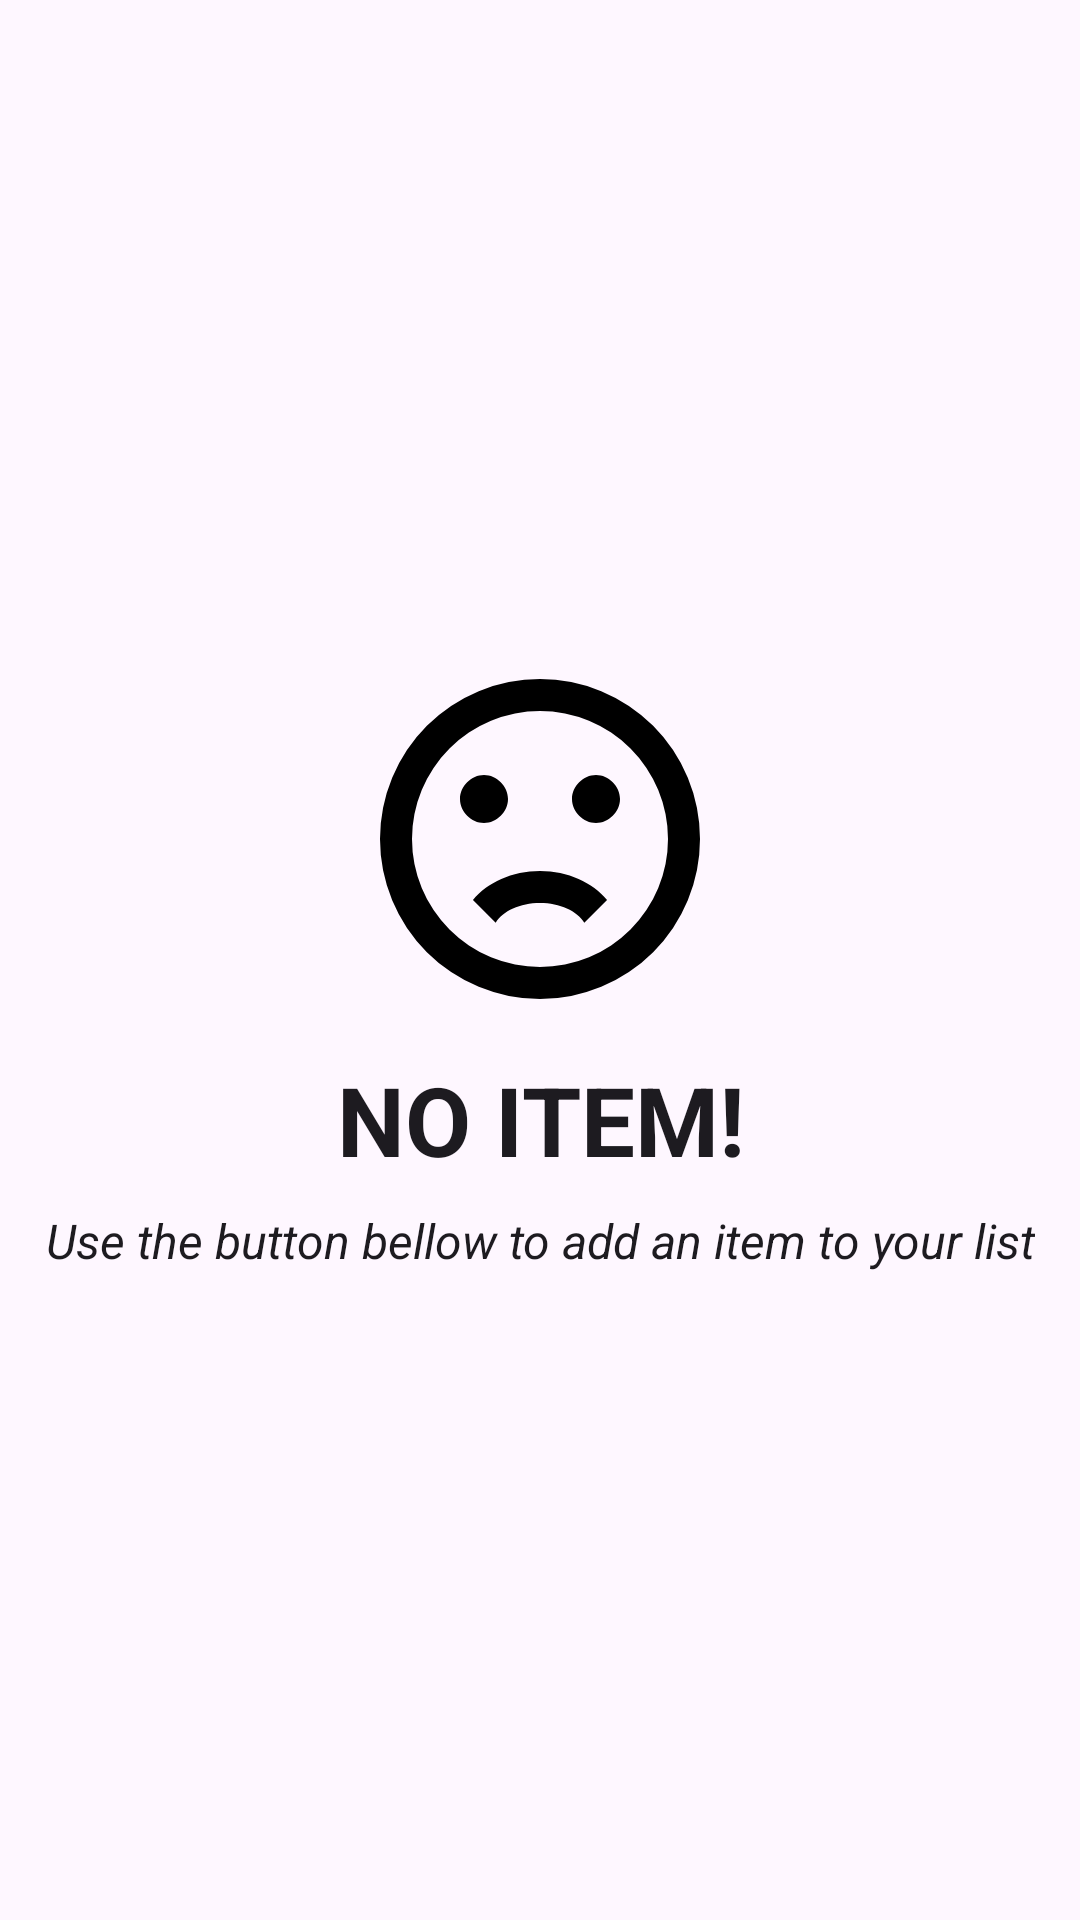

Where icons sit on this 1080×1920 app screen, as (x1, y1, x2, y2):
sad emotion: (380, 679, 700, 999)
